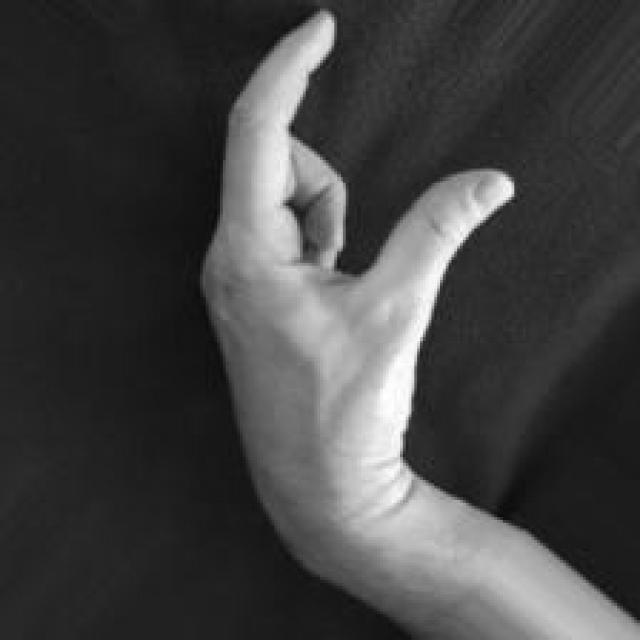U: (202, 5, 514, 510)
